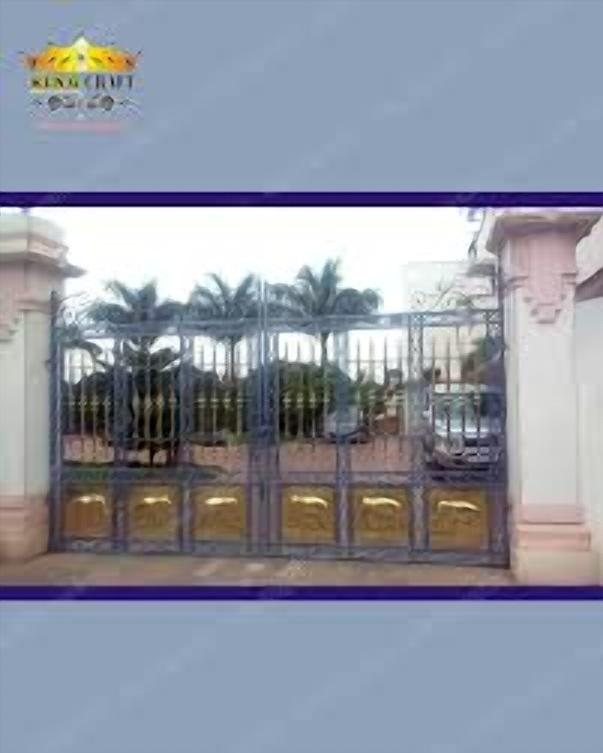Car: (421, 396, 509, 482), (326, 404, 377, 444)
Gate: (49, 279, 508, 568)
